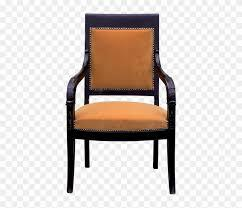chair: (62, 11, 177, 196)
